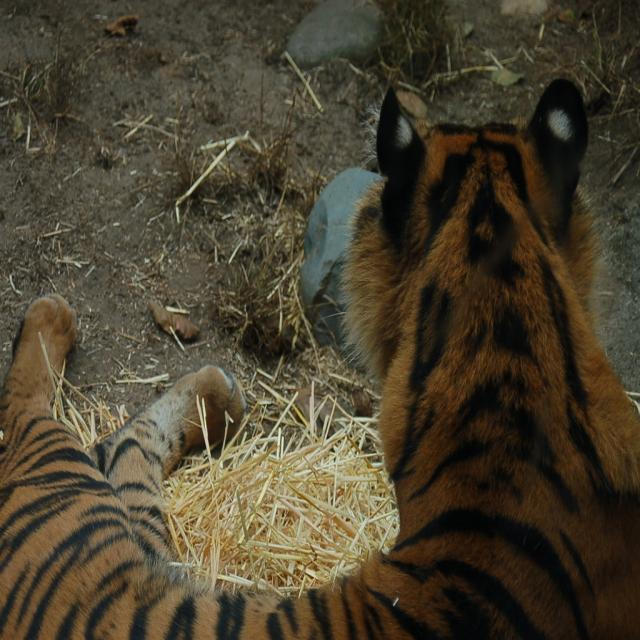Tiger: (0, 72, 640, 639)
